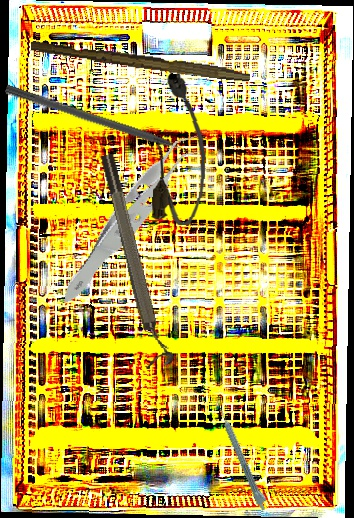Cannula: (151, 72, 210, 227)
Fixation Ring: (96, 150, 176, 370)
Handpiece: (216, 406, 272, 512)
Pusher: (3, 83, 204, 163)
Scalpel Handle: (29, 39, 252, 83)
Tissue Forceps: (26, 128, 249, 304)
